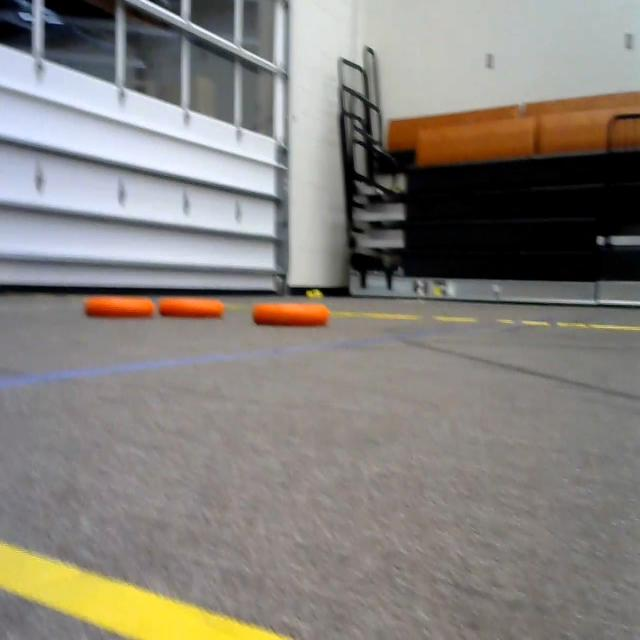note: (250, 294, 336, 332), (83, 282, 156, 324), (155, 290, 233, 322)
